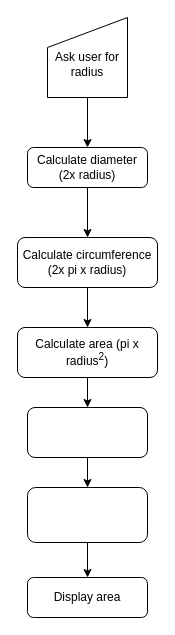
Image size: 175x635. Some labels were removed from this diagram. Each missing label, with the centre of its shape:
Display circumference: point (87, 514)
Display diameter: point (87, 432)
